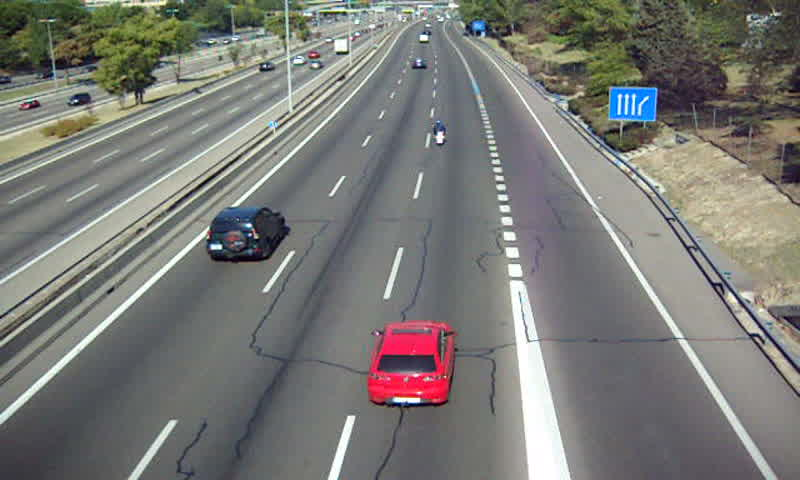car: (368, 321, 454, 404), (207, 206, 285, 261)
motorcycle: (432, 119, 447, 148)
